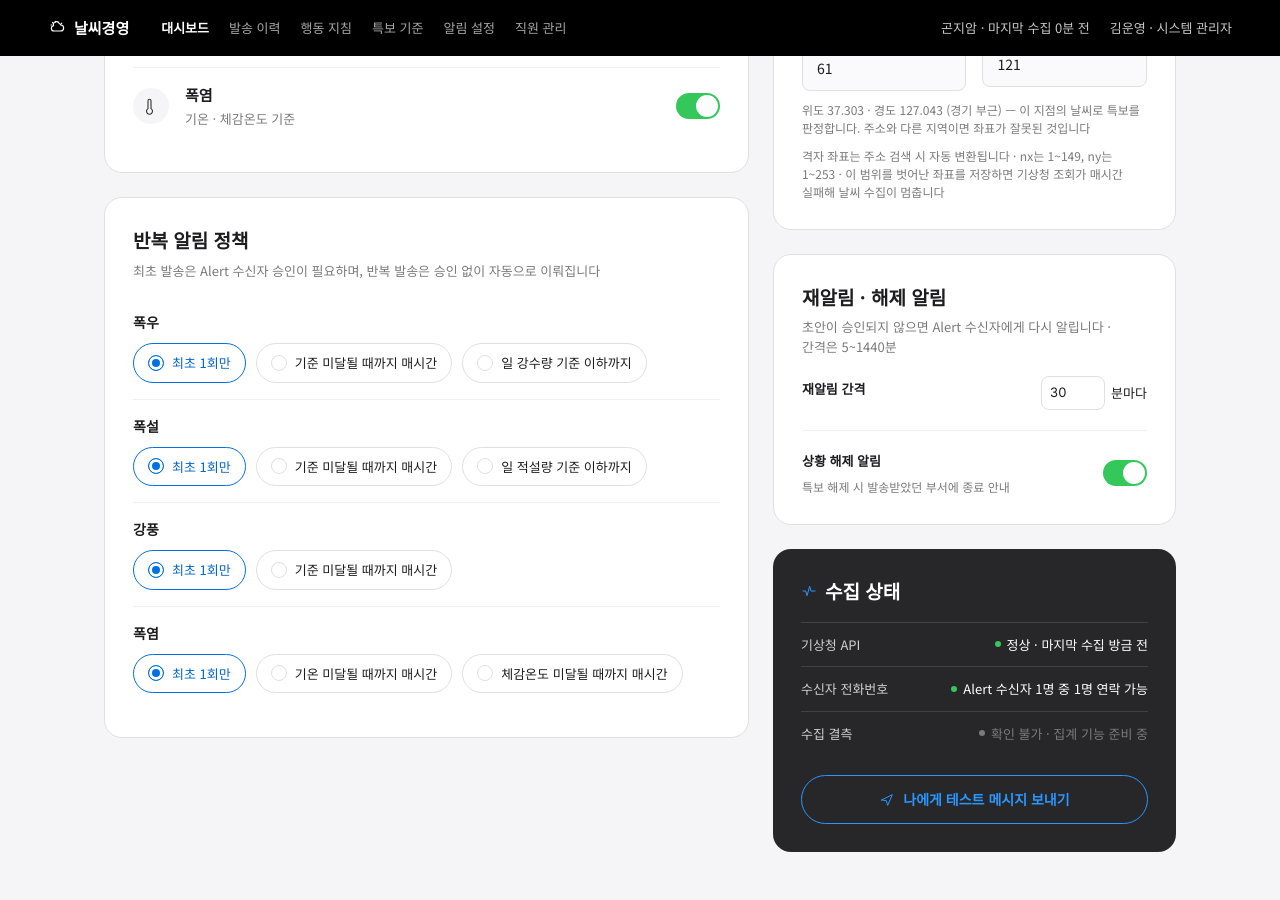
Test case: Settings 테스트 발송 › ok:false로 오면 서버가 준 사유를 그대로 보여준다
(page scrolled)
Click the button "나에게 테스트 메시지 보내기": [974, 800] box 801,775 -> 1148,824
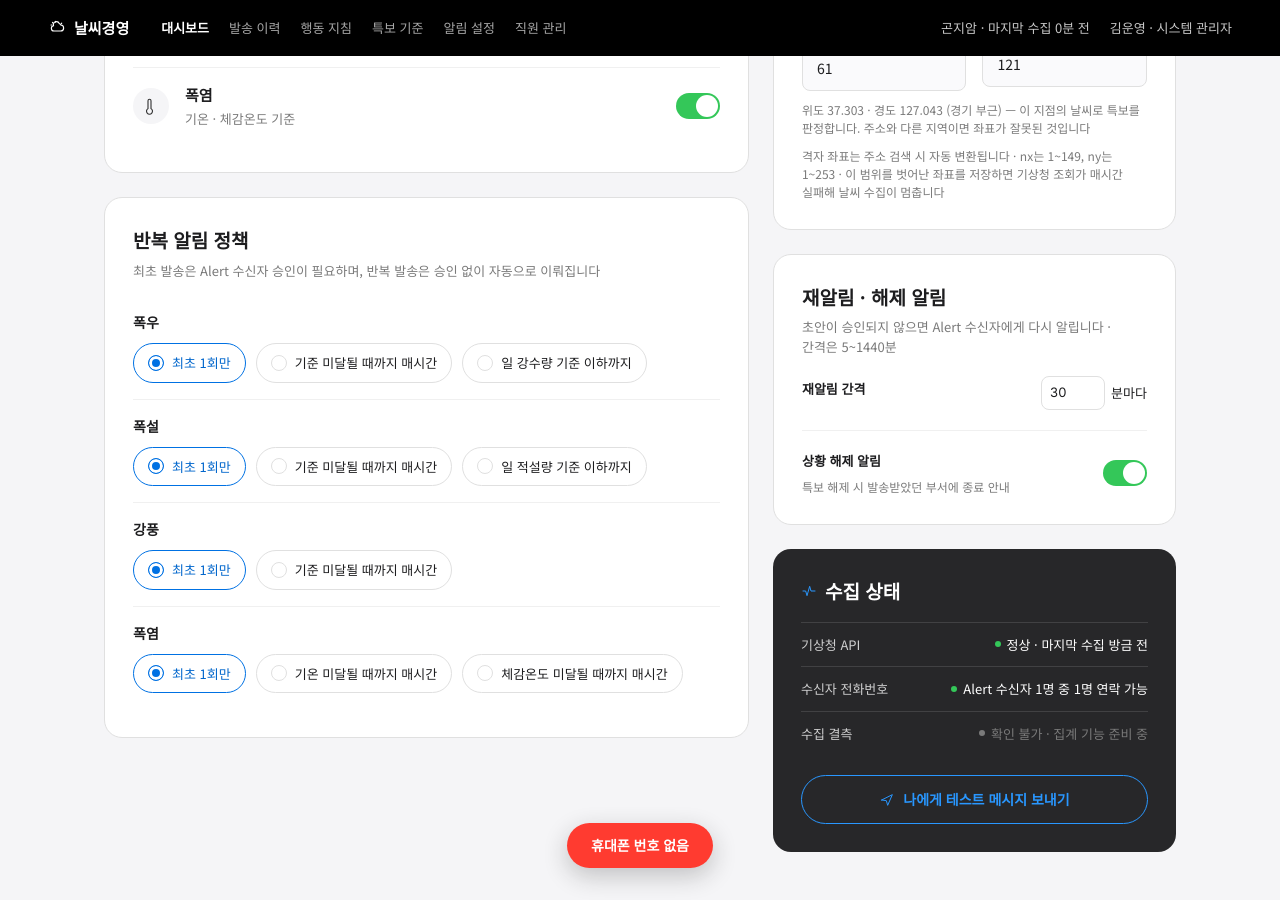
Expected: the text "휴대폰 번호 없음" is shown, 567,823 -> 713,868
